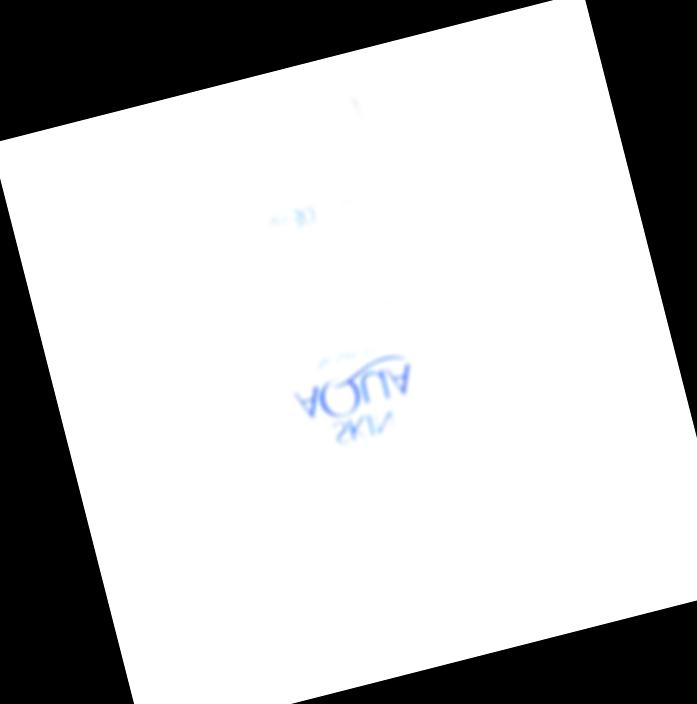cosmetic: (200, 93, 499, 645)
